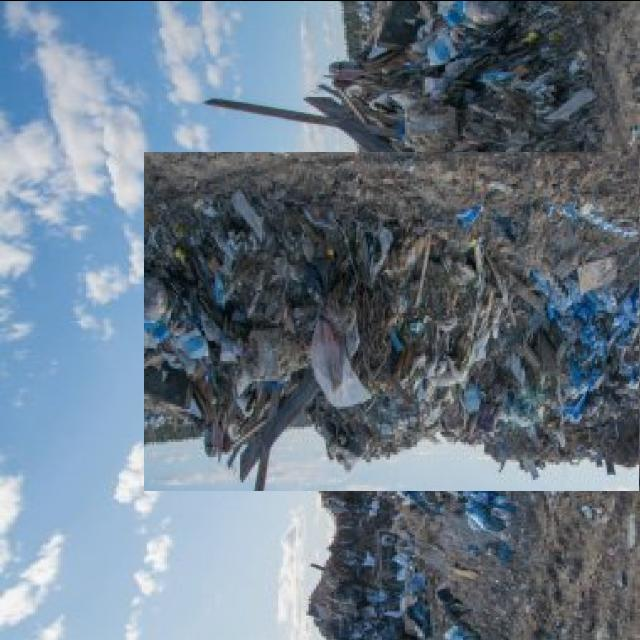garbage: (219, 75, 640, 565)
